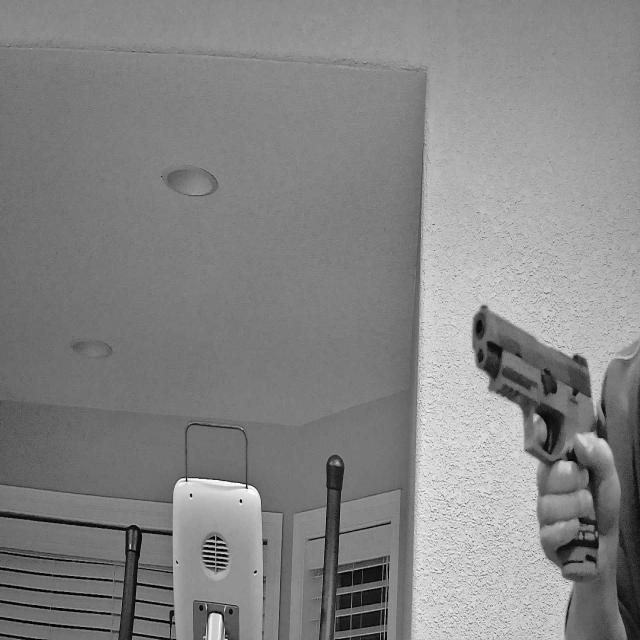Hand-Gun: (466, 277, 609, 567)
